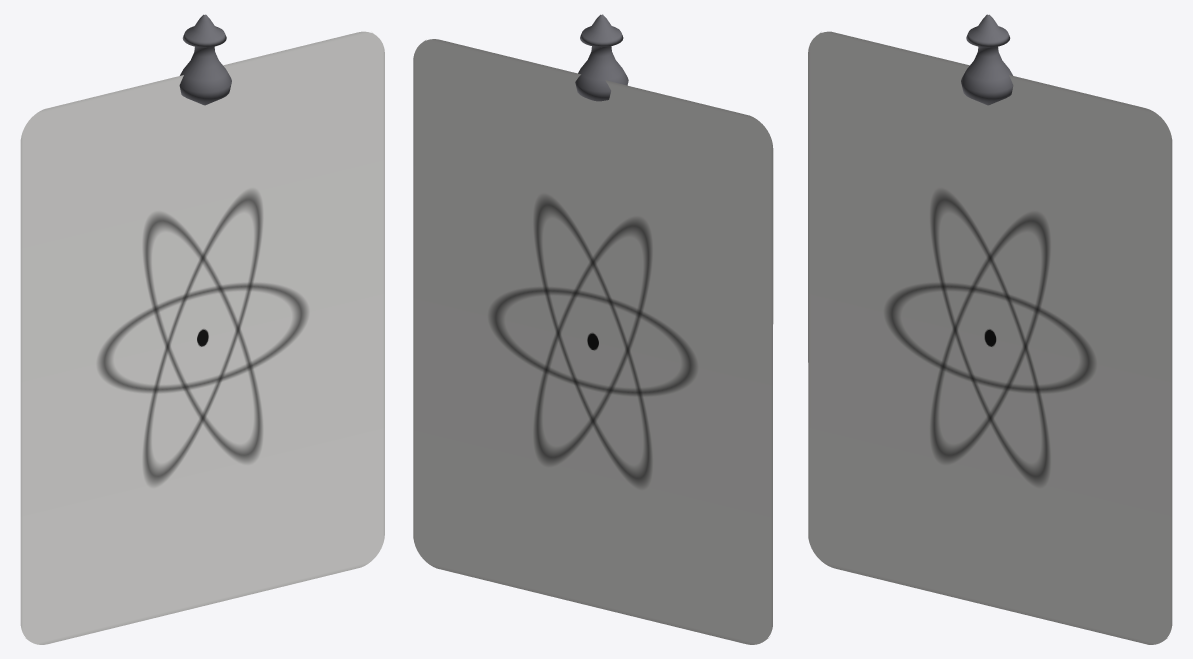
The model's file is card.glb.
3 views of the same model, side by side, from view 1: azimuth 30°, elevation 25°; view 2: azimuth 150°, elevation 25°; view 3: azimuth 330°, elevation 25° (orthographic).
Visible parts, largest first — view 1: card, clamp; view 2: card, clamp; view 3: card, clamp.
Boxes of the visible parts, left/top/right/bottom form: card: left=20, top=31, right=384, bottom=644; clamp: left=179, top=14, right=231, bottom=105; card: left=413, top=39, right=773, bottom=644; clamp: left=575, top=14, right=628, bottom=101; card: left=808, top=31, right=1172, bottom=644; clamp: left=961, top=14, right=1013, bottom=105.
Bounding box in the file's own units: 0.8 × 1.25 × 0.104.
2 materials, 1 textured.
